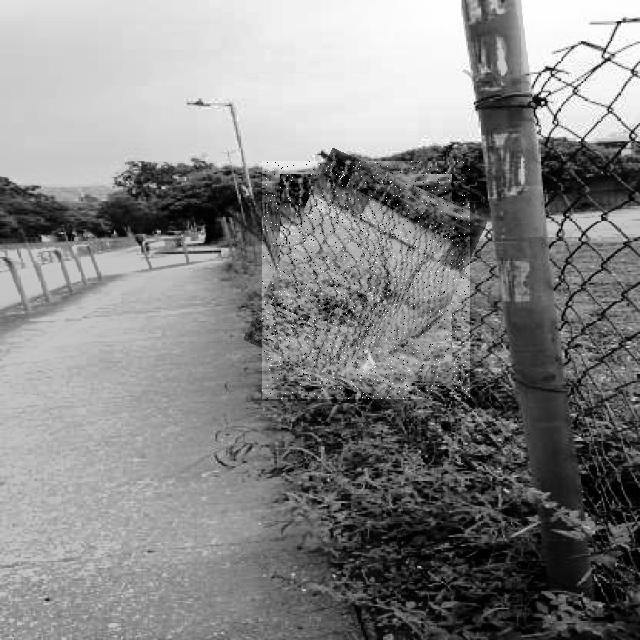anomaly-fence: (262, 161, 470, 399)
